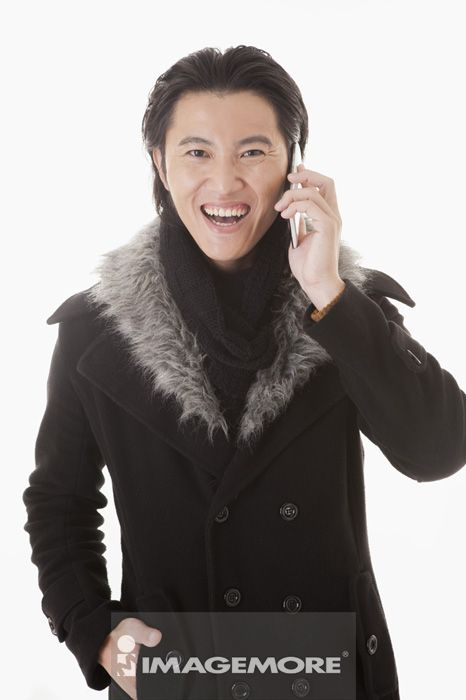phone: (287, 137, 303, 249)
talk: (169, 128, 343, 305)
